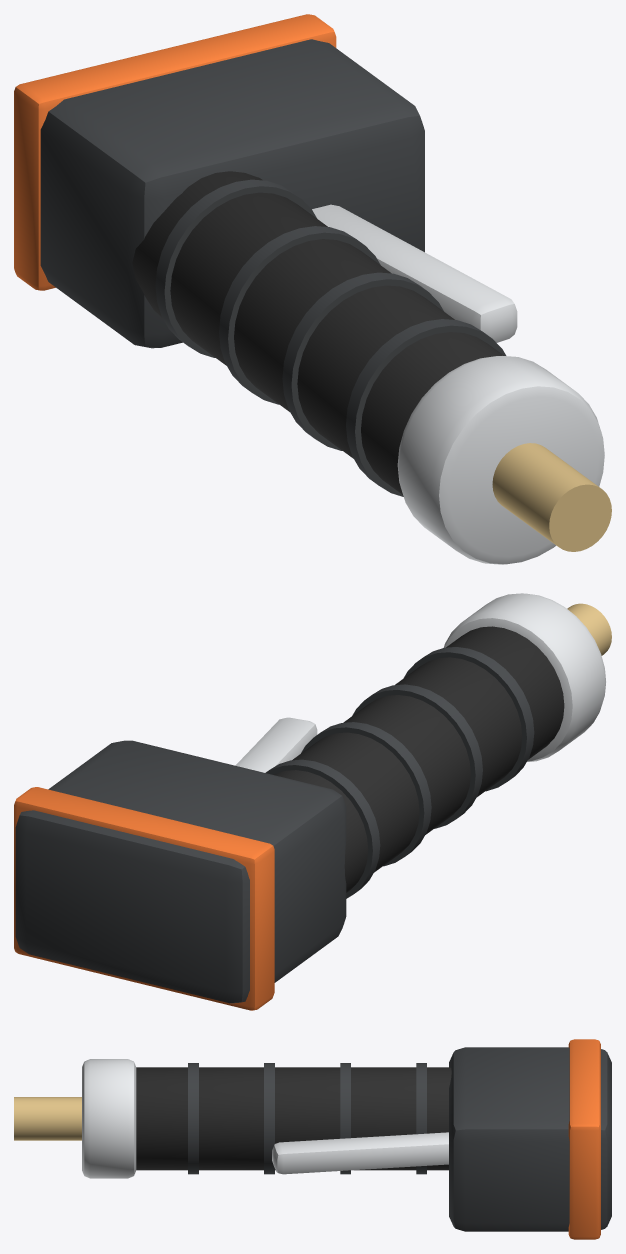
The model's file is SM_BladeHandle.fbx.
The picture shows the model from 3 angles, top to bottom: view 1: azimuth 30°, elevation 25°; view 2: azimuth 150°, elevation 25°; view 3: azimuth 270°, elevation 25°; orthographic projection. The views are drawn at different scales.
Visible parts, largest first — view 1: SM_BladeHandle; view 2: SM_BladeHandle; view 3: SM_BladeHandle.
Part boxes in pixels (<box>): SM_BladeHandle: <box>14,14,611,564</box>; SM_BladeHandle: <box>14,593,611,1010</box>; SM_BladeHandle: <box>14,1039,611,1239</box>.
Bounding box in the file's own units: 0.0785 × 0.047 × 0.22.
